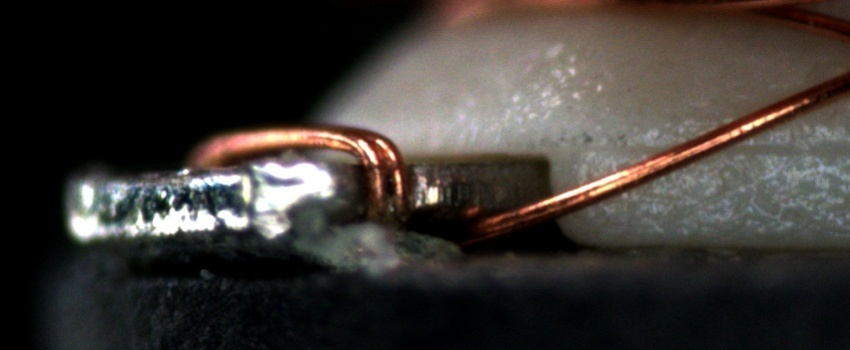DL: (595, 117, 846, 175)
TE: (180, 119, 418, 225)
